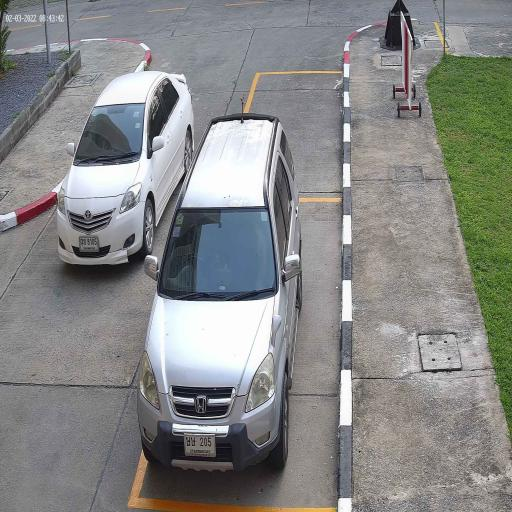car: (138, 111, 304, 476), (55, 70, 196, 267)
